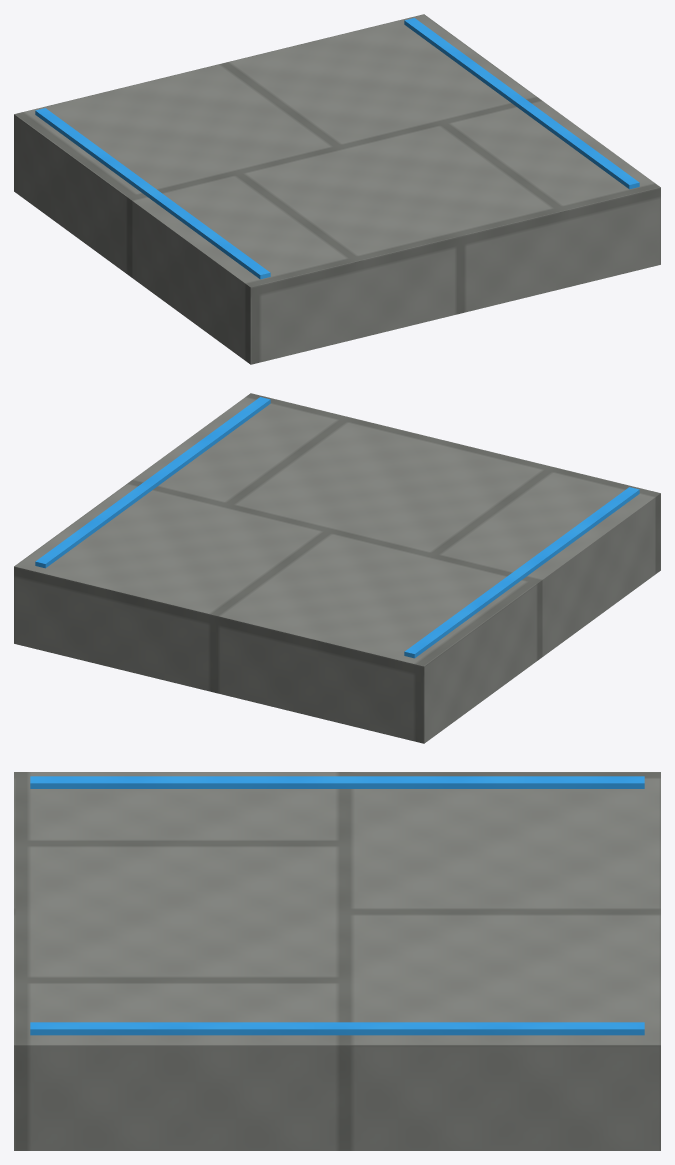
The model's file is bridge_2m.obj.
3 renders of one model, top to bottom at view 1: azimuth 30°, elevation 25°; view 2: azimuth 150°, elevation 25°; view 3: azimuth 270°, elevation 25°, orthographic. The views are drawn at different scales.
Parts seen in each view (by area): view 1: bridge_2m; view 2: bridge_2m; view 3: bridge_2m.
Part boxes in pixels (x1,y1,x2,y2): bridge_2m: (14,14,660,364); bridge_2m: (14,393,660,743); bridge_2m: (14,772,660,1150).
Bounding box in the file's own units: 2 × 0.38 × 2.
2 materials, 2 textured.
